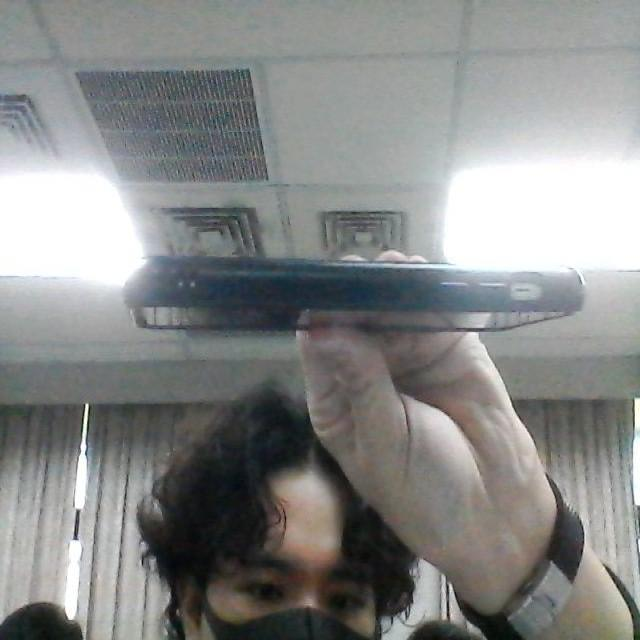Phone: (126, 251, 589, 337)
